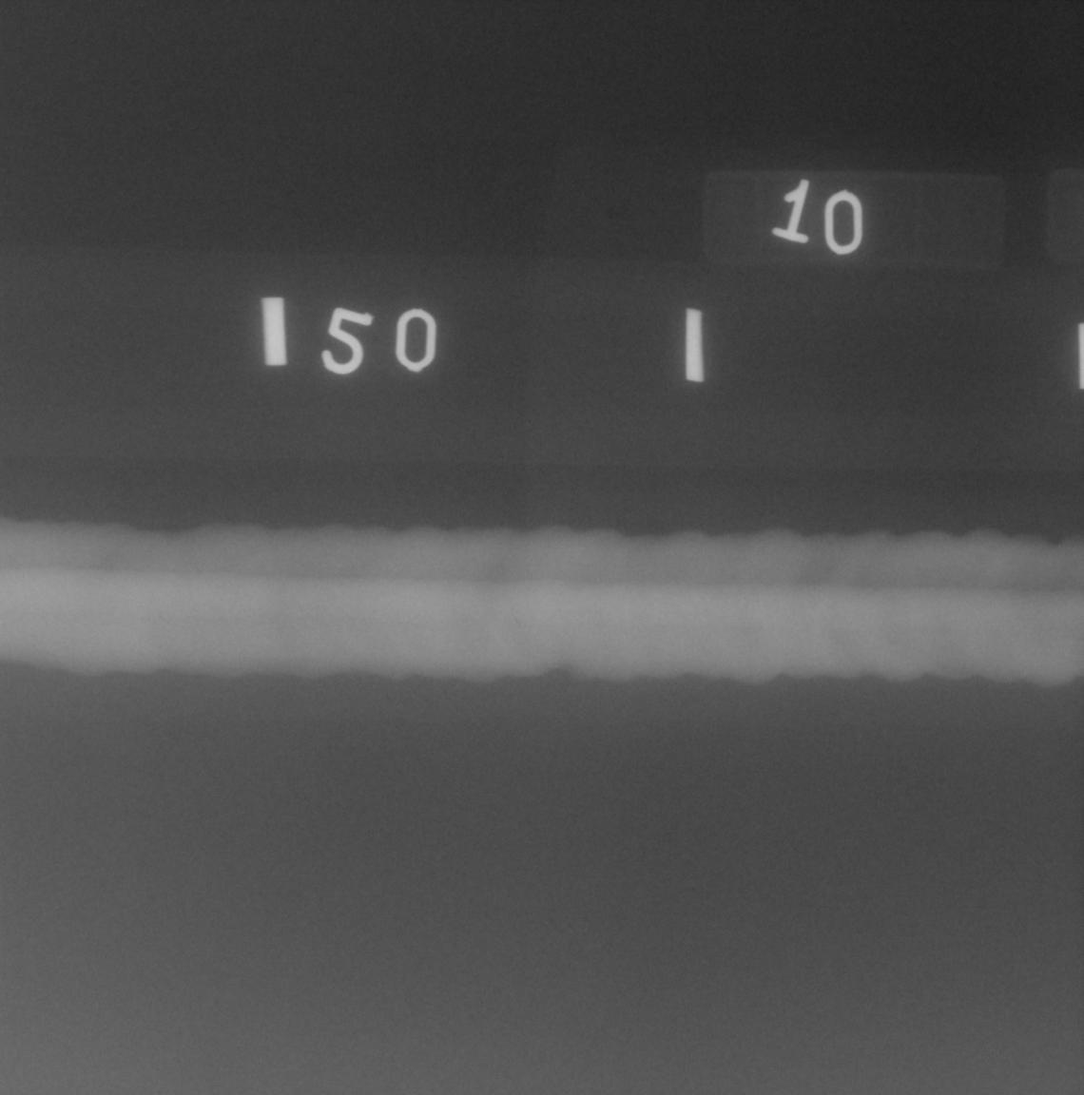Inclusion: (514, 615, 523, 630)
